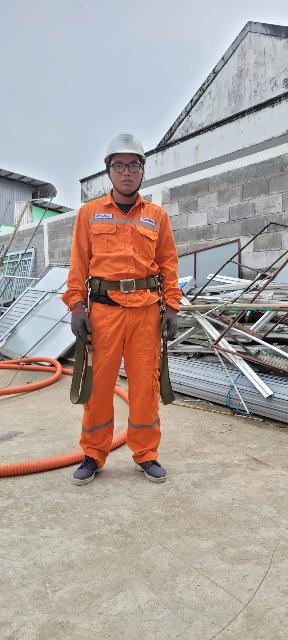gloves: (66, 308, 103, 348), (160, 301, 182, 342)
harness: (82, 269, 163, 299)
helmet: (94, 126, 159, 168)
shoes: (134, 453, 177, 486), (68, 447, 102, 485)
